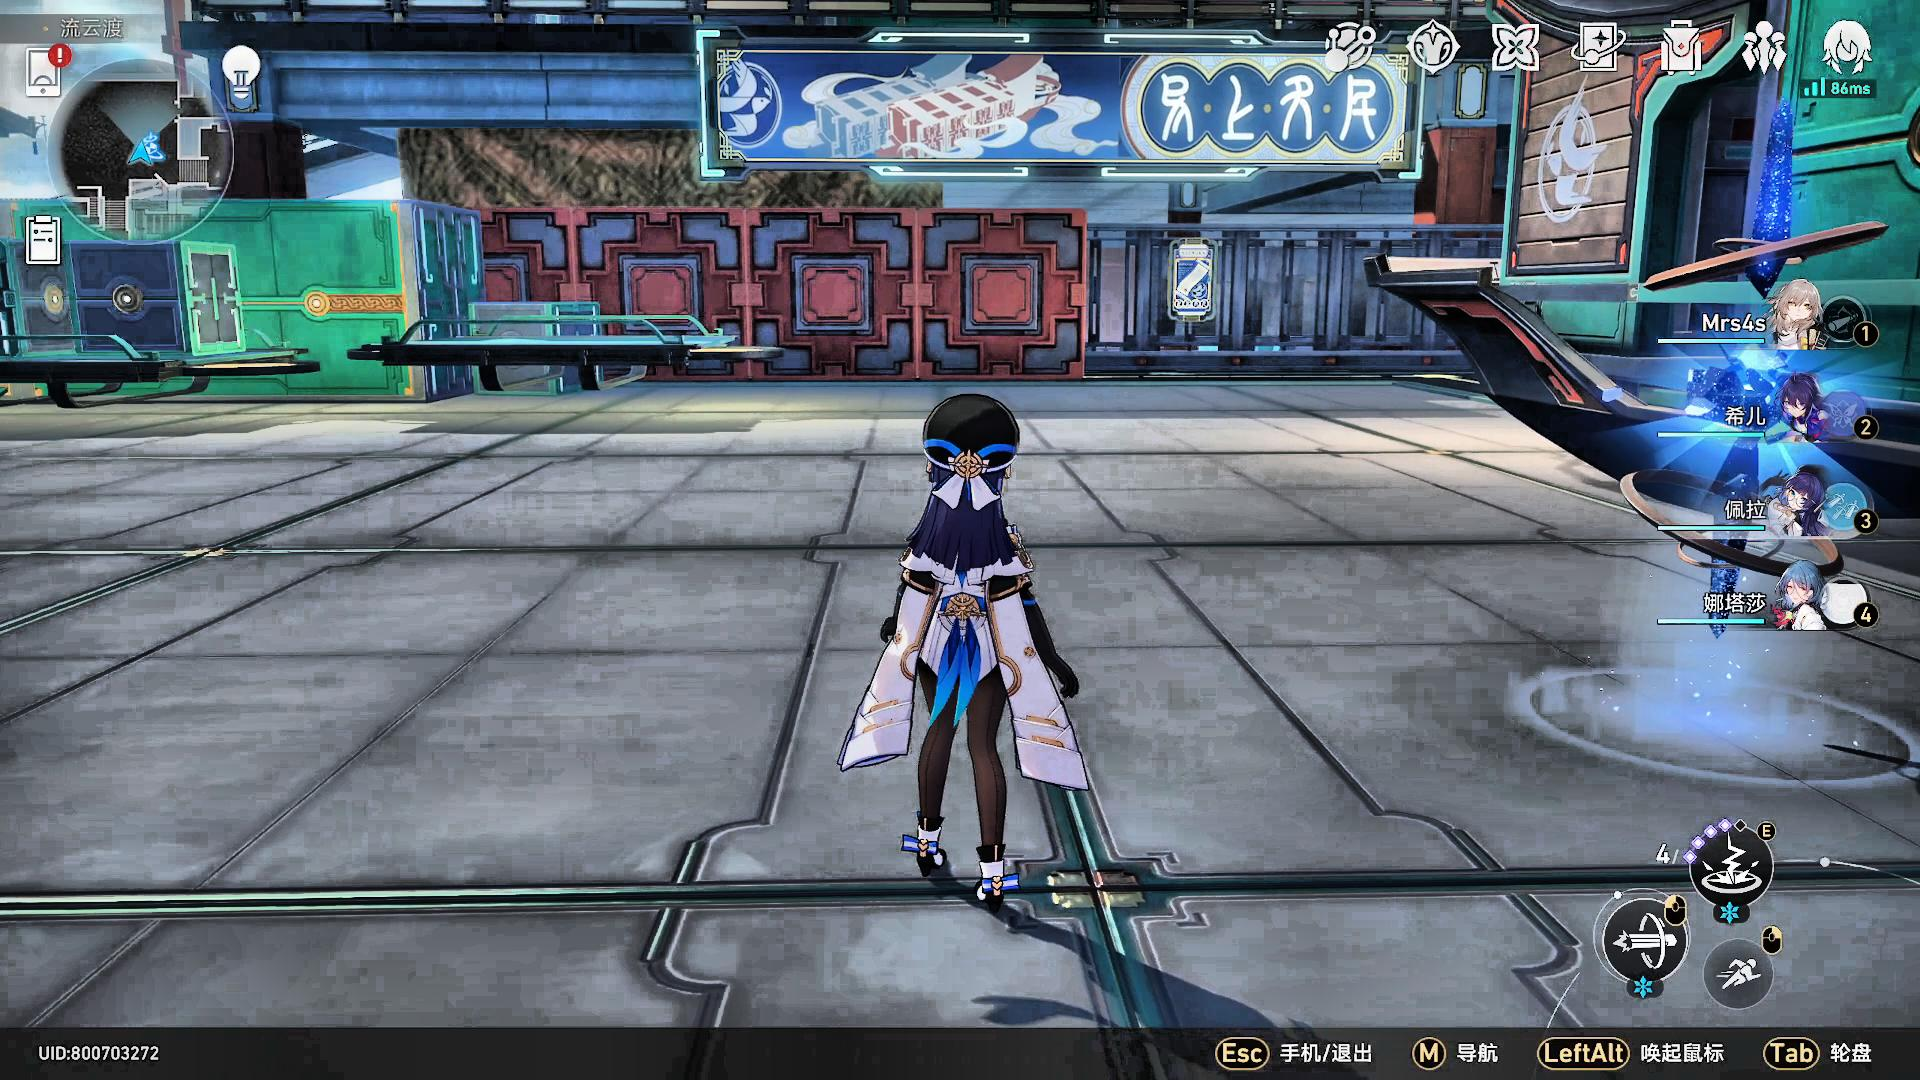Self: (831, 372, 1081, 936)
